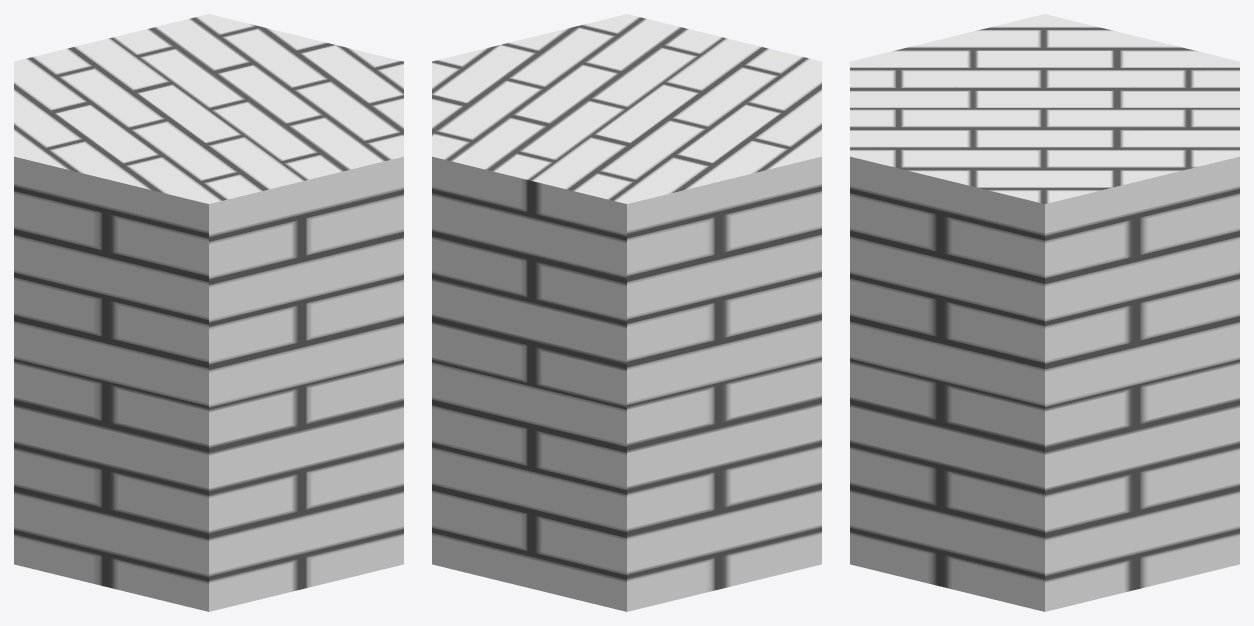
The model's file is single hexagon.fbx.
The picture shows the model from 3 angles, left to right: view 1: azimuth 30°, elevation 25°; view 2: azimuth 150°, elevation 25°; view 3: azimuth 270°, elevation 25°; orthographic projection.
Parts seen in each view (by area): view 1: pCylinder1; view 2: pCylinder1; view 3: pCylinder1.
Boxes of the visible parts, bbox=[...] form: pCylinder1: bbox=[14, 14, 403, 611]; pCylinder1: bbox=[432, 14, 821, 611]; pCylinder1: bbox=[850, 14, 1239, 611].
Bounding box in the file's own units: 6 × 6 × 5.2.
